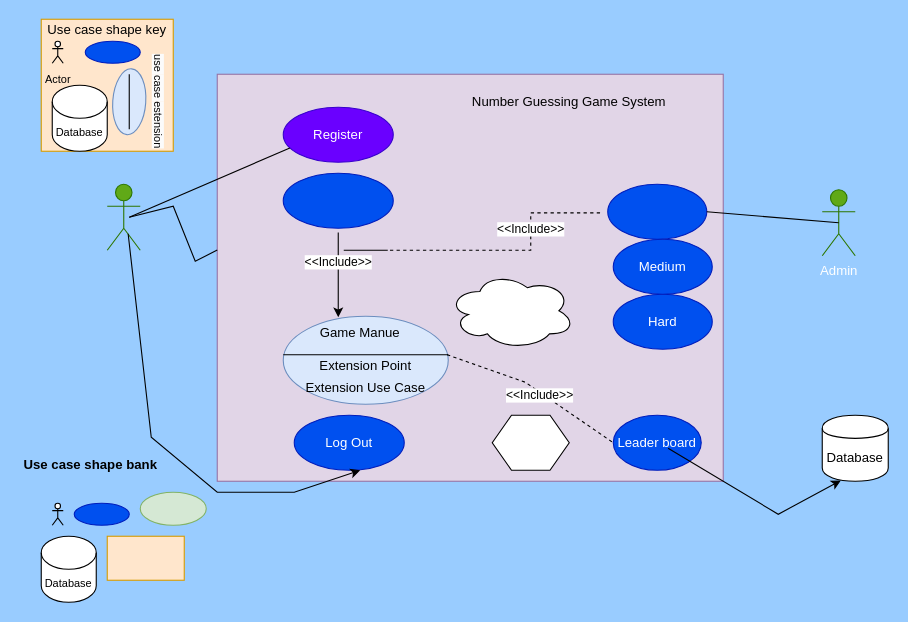
Some shapes in this 908 by 622 pixel diagram are drawn without their labels. The centre of each missing label's shape, as x and y in pixels:
"Easy" goes at point (657, 211).
"Login" goes at point (337, 200).
"Player" goes at point (123, 216).
"Team" goes at point (530, 442).
"use case" goes at point (112, 51).
